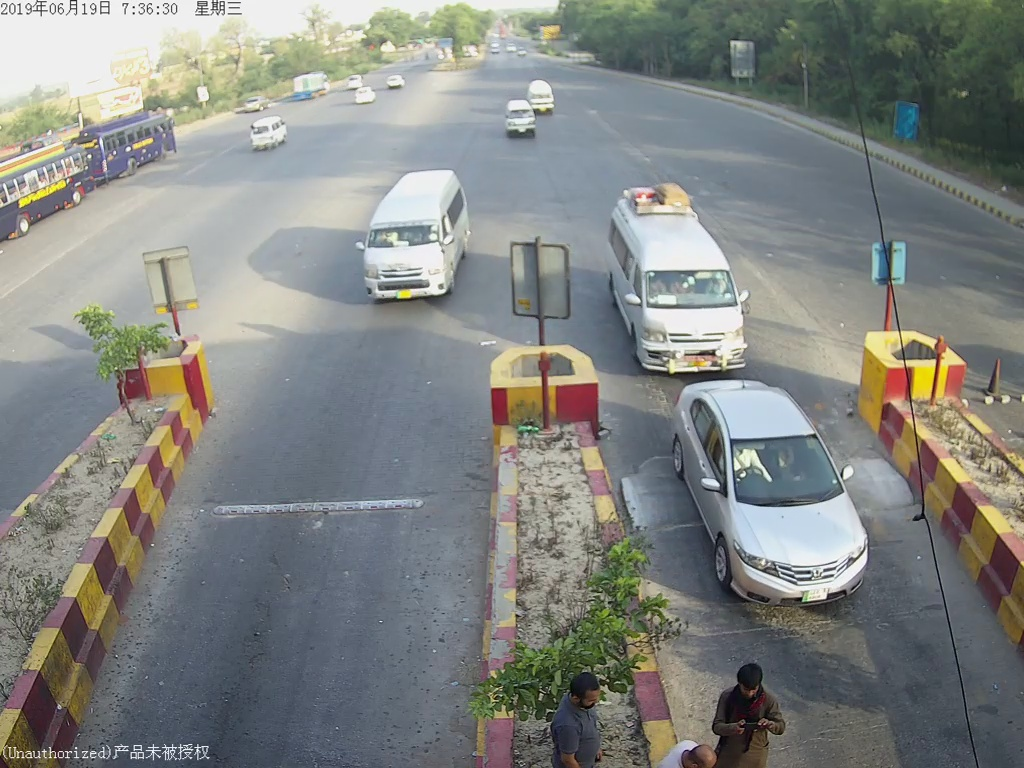Cat-1: (671, 374, 873, 608), (496, 94, 538, 136), (521, 76, 558, 112)
Cat-2: (602, 184, 759, 373), (354, 161, 472, 305)
